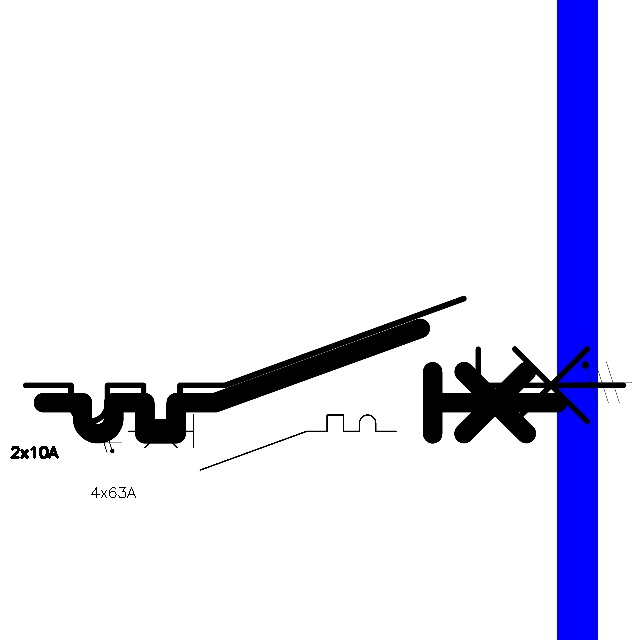interruptor_termomagnetico: (10, 283, 639, 437), (30, 315, 571, 447), (121, 408, 403, 477)
